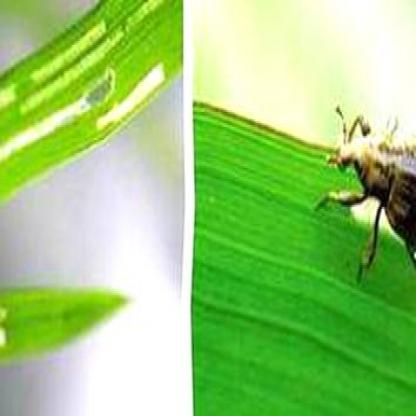rice-bug: (330, 122, 416, 272)
